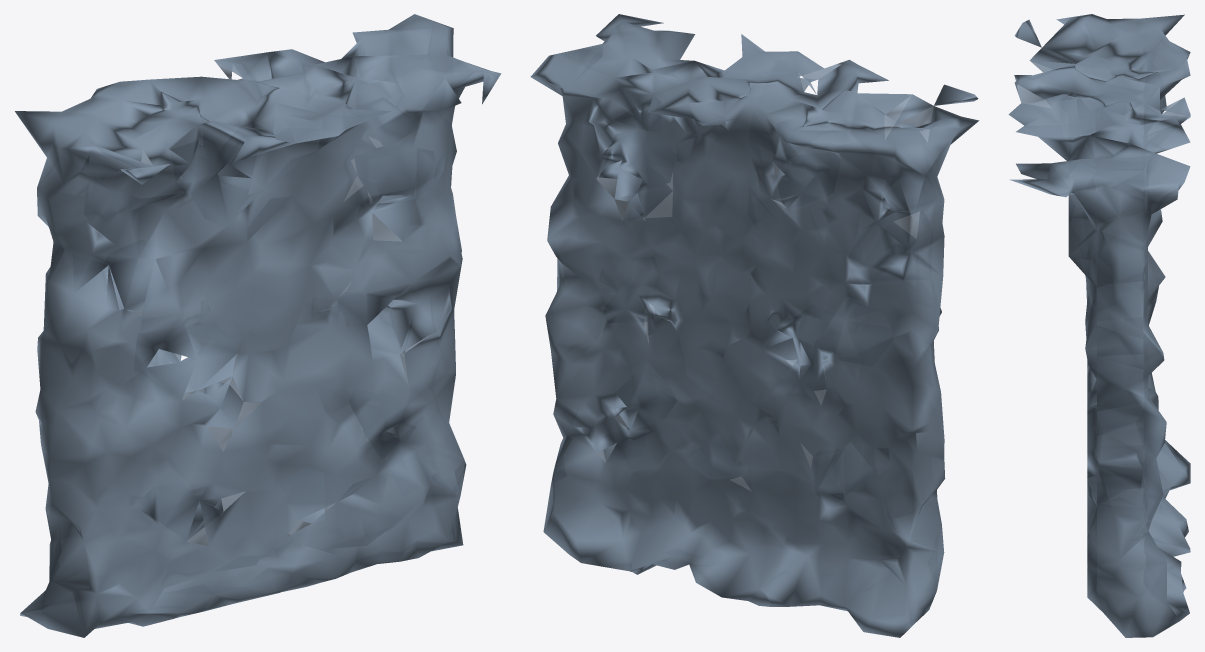
Rendered from bed_0600_original.obj.
3 views of the same model, side by side, from view 1: azimuth 30°, elevation 25°; view 2: azimuth 150°, elevation 25°; view 3: azimuth 270°, elevation 25° (orthographic). The views are drawn at different scales.
Size of the model in its own units: 1.25 by 1.48 by 0.5424.
